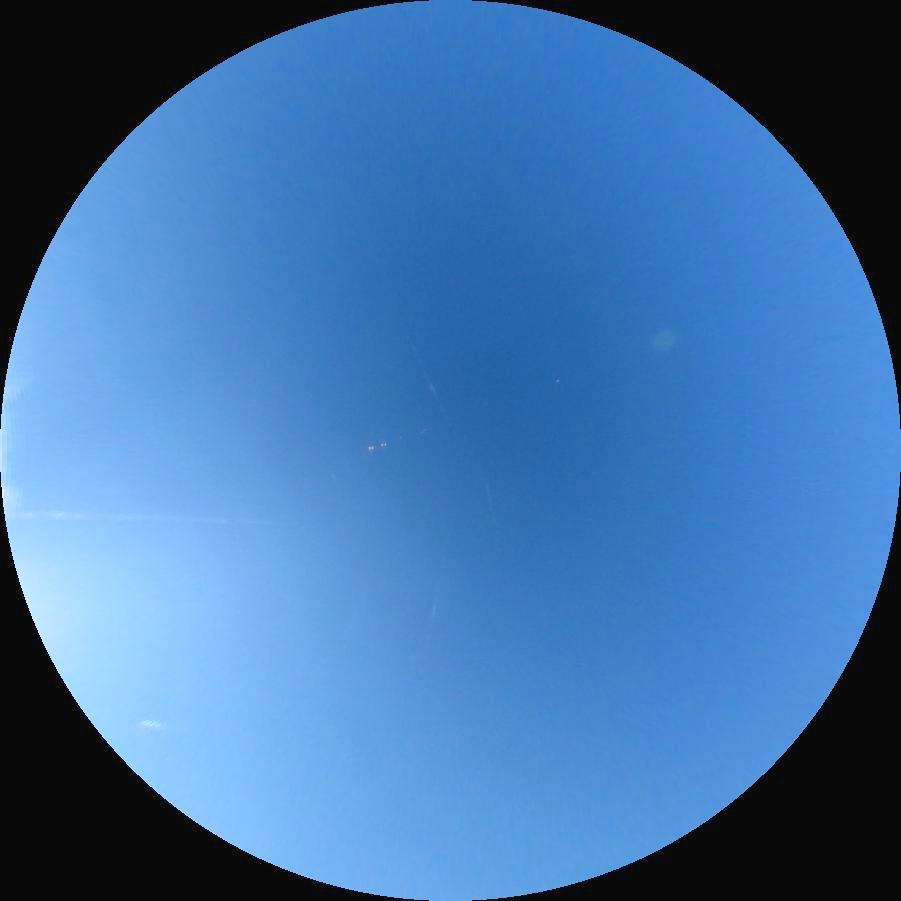contrail young: (135, 718, 178, 733)
parasite: (8, 507, 303, 535)
